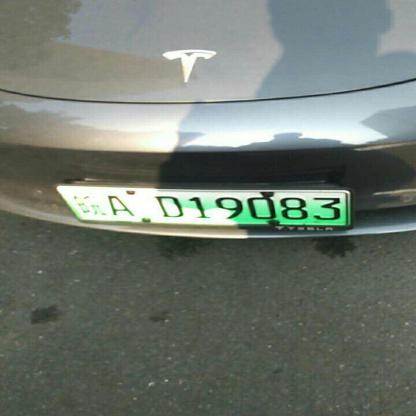lp: (55, 185, 80, 225)
